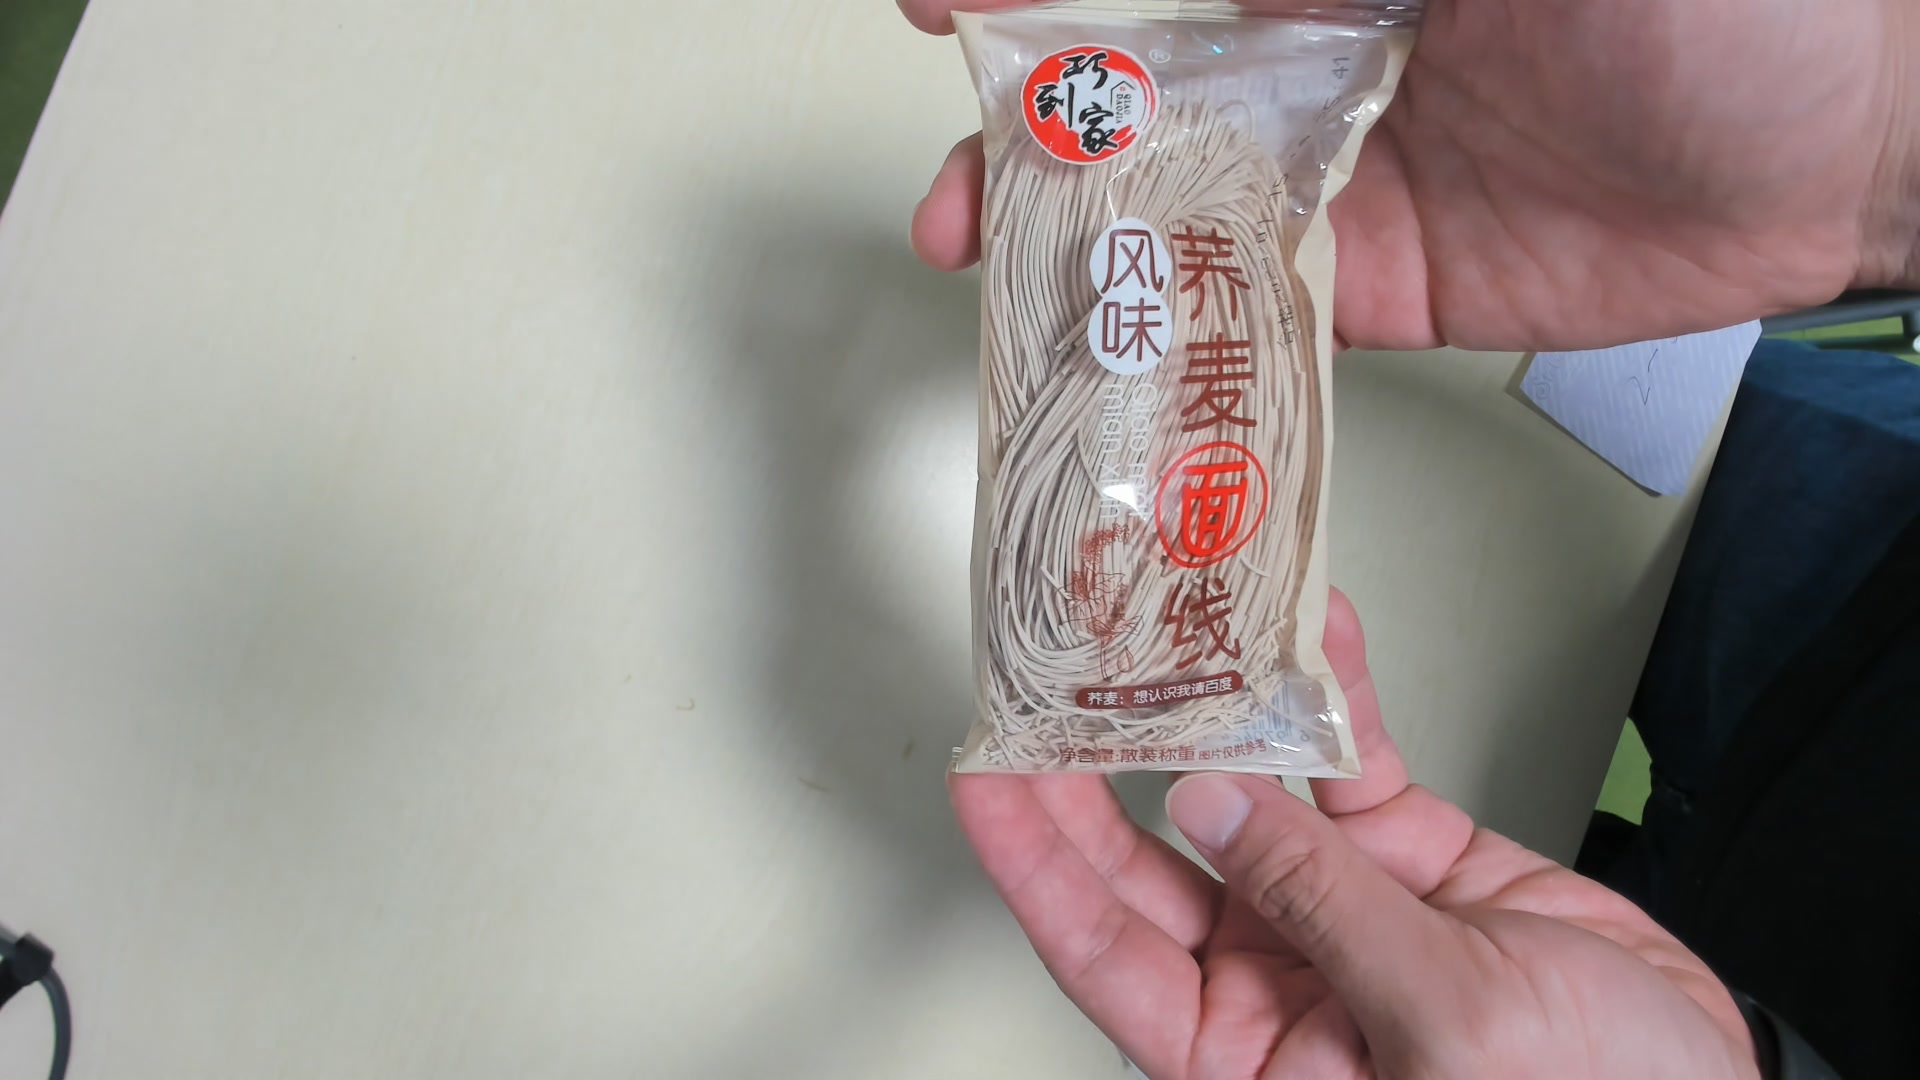BeeHoonVermicelli_0-99g_NonHalal_NonHealthy: (959, 9, 1367, 779)
